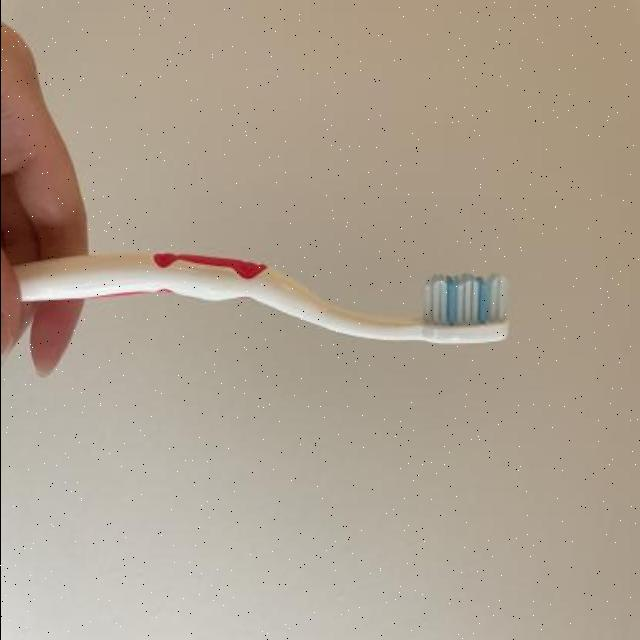toothbrush: (61, 241, 524, 345)
